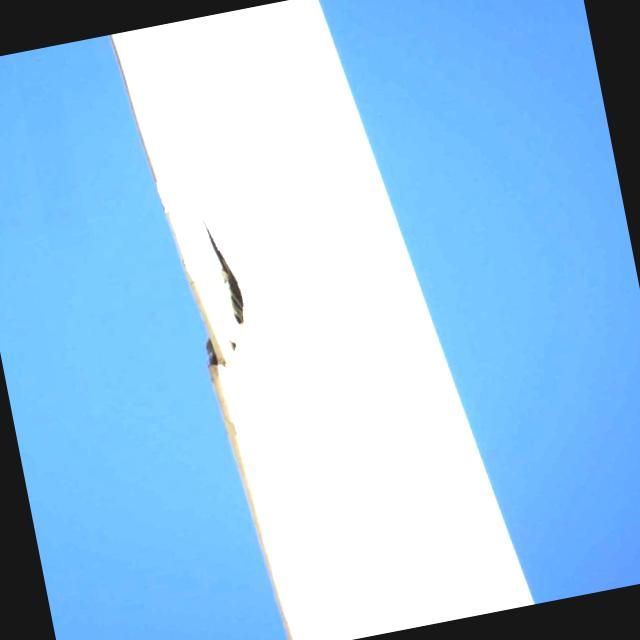crack: (180, 213, 258, 369)
